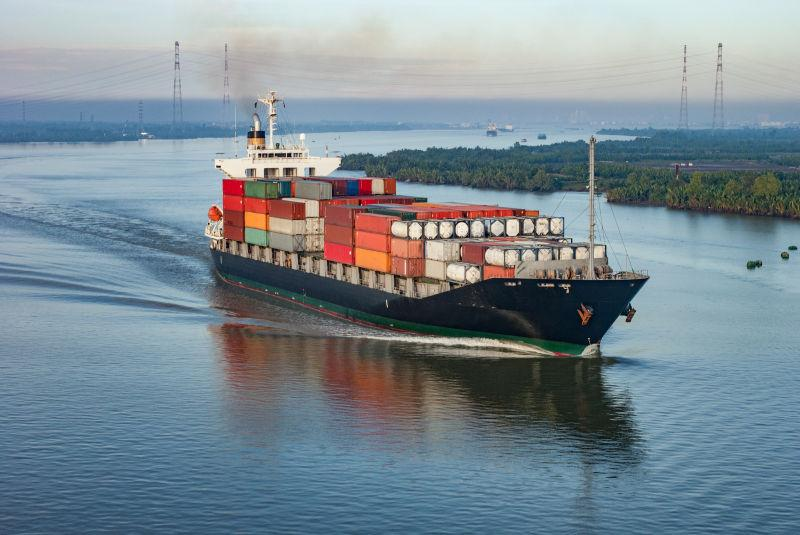boat: (198, 91, 653, 367)
